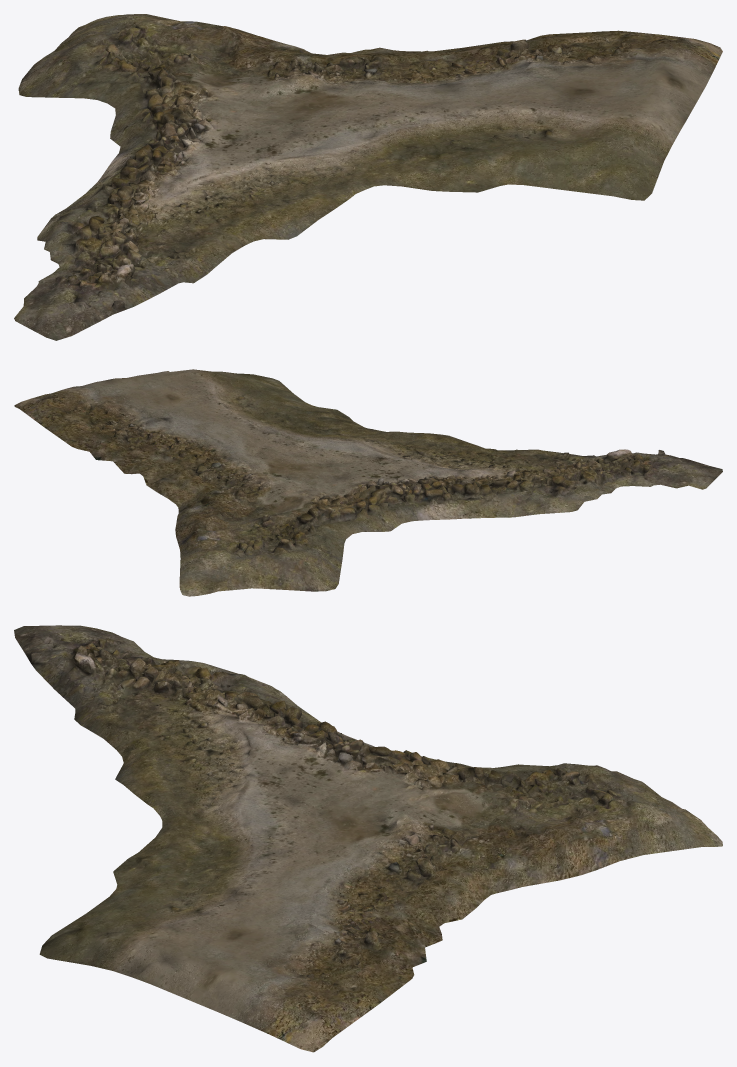
The model's file is rock-coast-a.glb.
3 renders of one model, top to bottom at view 1: azimuth 30°, elevation 25°; view 2: azimuth 150°, elevation 25°; view 3: azimuth 270°, elevation 25°, orthographic. The views are drawn at different scales.
Parts seen in each view (by area): view 1: coast_rocks_01; view 2: coast_rocks_01; view 3: coast_rocks_01.
Part boxes in pixels (x1,y1,x2,y2): coast_rocks_01: (14, 14, 722, 340); coast_rocks_01: (14, 369, 722, 596); coast_rocks_01: (14, 625, 722, 1052).
Bounding box in the file's own units: 59.49 × 3.27 × 42.49.
1 material, 1 textured.
